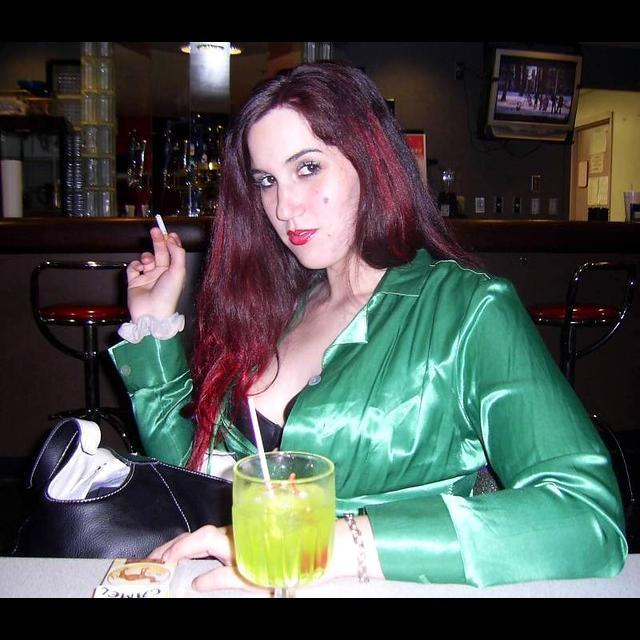rokok: (152, 208, 168, 234)
